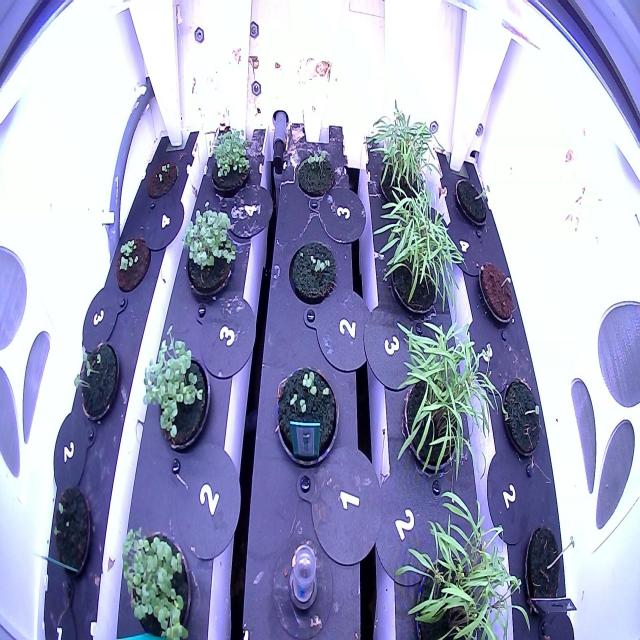germination: (270, 359, 340, 473), (520, 509, 577, 632), (69, 332, 121, 428), (48, 478, 95, 584), (498, 367, 545, 467), (287, 234, 339, 313), (474, 249, 520, 334), (113, 230, 153, 300), (453, 171, 494, 236), (294, 142, 337, 201), (143, 152, 181, 205)
